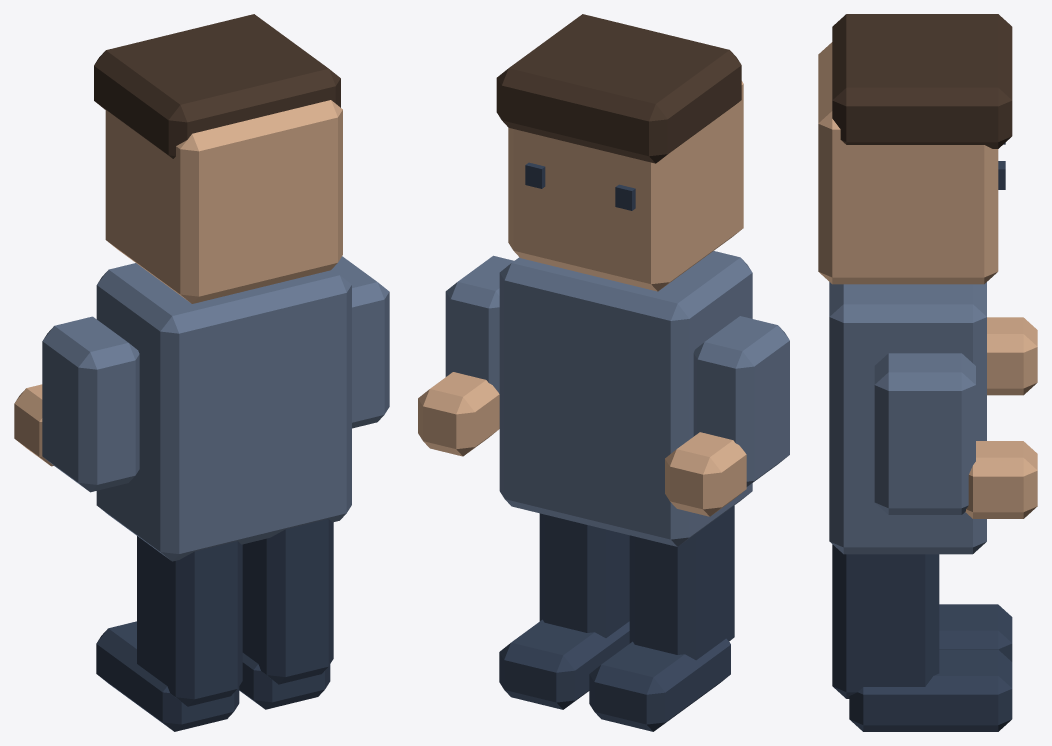
File: agent-lead.glb
3 views of the same model, side by side, from view 1: azimuth 30°, elevation 25°; view 2: azimuth 150°, elevation 25°; view 3: azimuth 270°, elevation 25° (orthographic). The views are drawn at different scales.
Parts seen in each view (by area): view 1: Torso.005, Head.005, Hair.005, Leg.010, Sleeve.010, Leg.011, Sleeve.011, Shoe.010, Shoe.011, Hand.010; view 2: Torso.005, Head.005, Hair.005, Leg.010, Sleeve.010, Leg.011, Shoe.010, Shoe.011, Sleeve.011, Hand.010, Hand.011; view 3: Head.005, Torso.005, Hair.005, Sleeve.011, Leg.011, Shoe.011, Hand.011, Hand.010, Shoe.010.
Boxes of the visible parts, x1,y1,x2,y2 form: Torso.005: [96, 263, 351, 561]; Head.005: [105, 100, 342, 303]; Hair.005: [94, 14, 340, 158]; Leg.010: [137, 536, 242, 706]; Sleeve.010: [42, 316, 139, 492]; Leg.011: [242, 519, 333, 684]; Sleeve.011: [332, 256, 389, 428]; Shoe.010: [96, 621, 239, 731]; Shoe.011: [239, 653, 330, 709]; Hand.010: [14, 384, 53, 466]; Torso.005: [499, 251, 752, 546]; Head.005: [508, 81, 743, 291]; Hair.005: [496, 14, 741, 163]; Leg.010: [629, 505, 734, 660]; Sleeve.010: [693, 316, 789, 486]; Leg.011: [539, 513, 629, 637]; Shoe.010: [589, 638, 730, 731]; Shoe.011: [499, 619, 629, 709]; Sleeve.011: [445, 255, 513, 393]; Hand.010: [665, 432, 746, 516]; Hand.011: [418, 372, 499, 456]; Head.005: [818, 42, 998, 284]; Torso.005: [829, 282, 986, 554]; Hair.005: [832, 14, 1012, 148]; Sleeve.011: [874, 353, 975, 514]; Leg.011: [832, 544, 939, 698]; Shoe.011: [849, 649, 1012, 731]; Hand.011: [965, 441, 1037, 518]; Hand.010: [987, 317, 1037, 395]; Shoe.010: [939, 604, 1012, 661].
Size of the model in its own units: 0.65 by 1.27 by 0.39.
